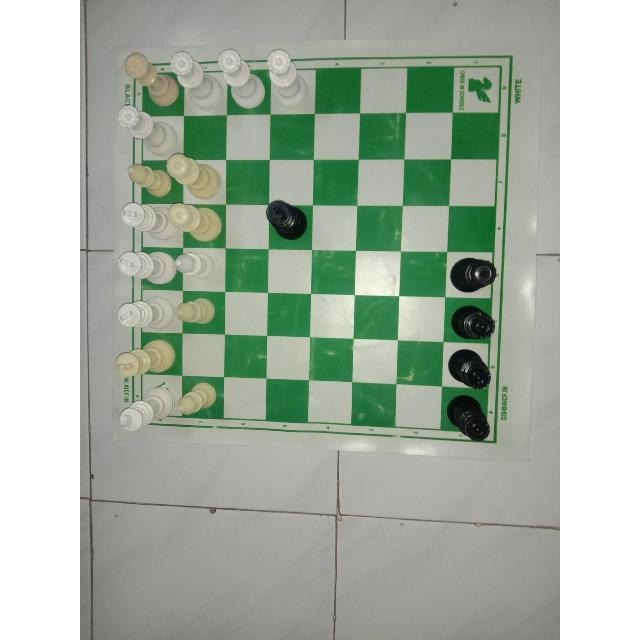black-king: (262, 198, 308, 242)
black-queen: (444, 393, 490, 443), (445, 346, 492, 391), (448, 255, 500, 294), (449, 300, 499, 340)
white-bishop: (125, 162, 177, 200), (176, 378, 218, 417), (174, 291, 218, 326), (173, 248, 214, 282)
white-king: (119, 199, 179, 243), (113, 247, 175, 289), (116, 386, 172, 430), (113, 338, 175, 377), (115, 294, 175, 331)
white-queen: (213, 48, 269, 112), (120, 49, 180, 108), (166, 50, 223, 112), (116, 106, 179, 155), (263, 46, 309, 108), (164, 152, 224, 198), (164, 199, 222, 241)
